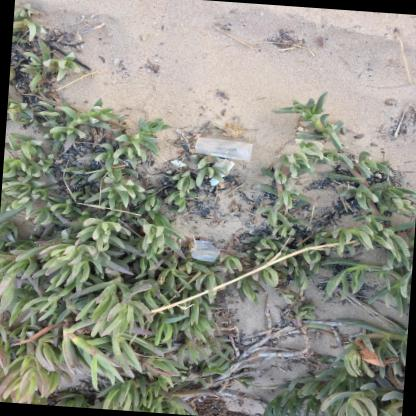Plastic: (194, 137, 251, 160), (189, 237, 225, 261)
Waste: (211, 157, 234, 175), (208, 170, 225, 185), (170, 159, 185, 166)
